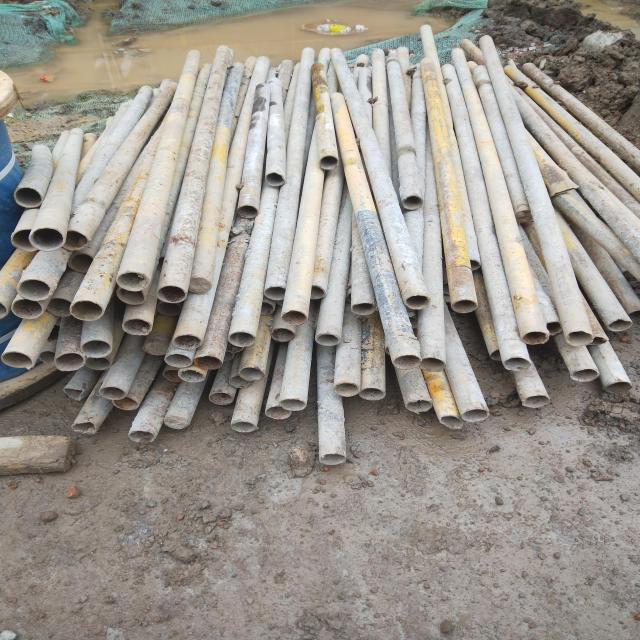pipe: (68, 296, 107, 322), (514, 387, 554, 412), (14, 276, 57, 299), (29, 226, 67, 252), (11, 183, 45, 210), (113, 284, 149, 309), (4, 346, 37, 372), (8, 229, 41, 254), (64, 225, 92, 254), (114, 271, 150, 293), (62, 250, 97, 272), (42, 296, 74, 320), (605, 374, 631, 402), (7, 300, 43, 320), (418, 351, 446, 374), (562, 328, 594, 348), (122, 316, 154, 336), (55, 352, 88, 371), (569, 366, 600, 386), (458, 408, 490, 427), (84, 338, 115, 357), (158, 284, 186, 305), (391, 353, 423, 371), (359, 382, 385, 404), (234, 204, 264, 223), (329, 381, 359, 400), (196, 352, 223, 373), (225, 330, 258, 347), (59, 384, 87, 404), (228, 418, 259, 436), (402, 396, 432, 414), (174, 330, 201, 350), (187, 275, 214, 295), (157, 300, 187, 318), (99, 381, 127, 400), (264, 169, 286, 192), (163, 413, 191, 431), (608, 315, 633, 335), (302, 282, 327, 302), (523, 330, 549, 349), (206, 390, 235, 407), (263, 284, 290, 302), (126, 430, 156, 446), (459, 253, 484, 272), (351, 299, 376, 318), (165, 351, 194, 367), (36, 346, 58, 367), (504, 357, 534, 372), (438, 414, 463, 432), (320, 454, 350, 469), (282, 309, 307, 327), (253, 296, 278, 314), (178, 369, 208, 384), (279, 398, 307, 414), (264, 404, 292, 420), (67, 422, 98, 436), (240, 365, 264, 383), (452, 298, 477, 315), (316, 331, 341, 348), (145, 339, 170, 356), (542, 318, 562, 339), (482, 348, 510, 363), (83, 357, 113, 371), (274, 327, 296, 346), (228, 373, 254, 389), (401, 195, 424, 213), (113, 396, 140, 411), (320, 152, 340, 172), (514, 206, 534, 226), (408, 294, 430, 312), (164, 369, 185, 387), (221, 342, 245, 356), (590, 332, 602, 353)
